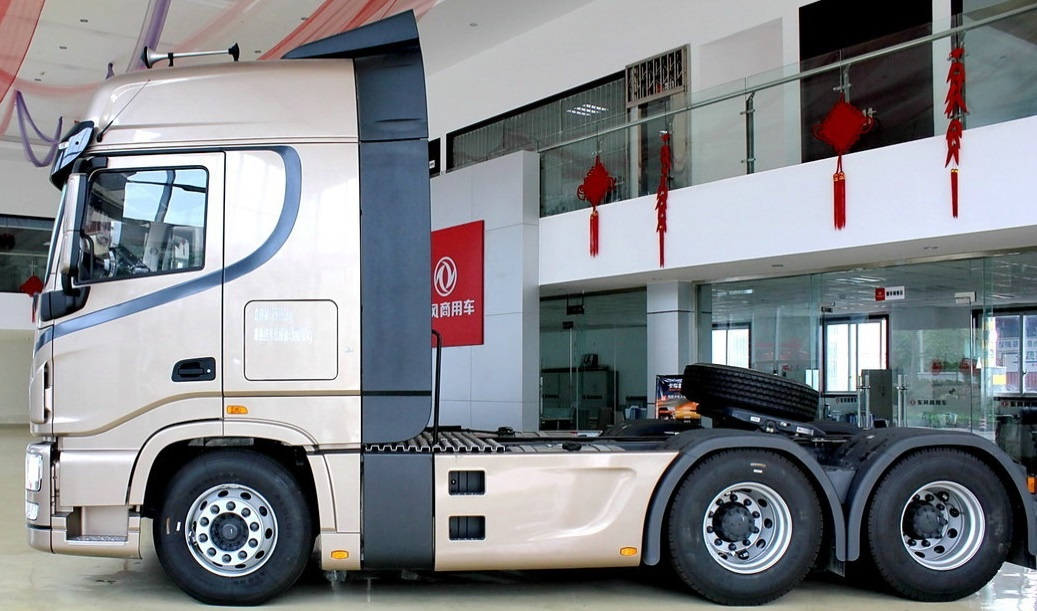heavy truck: (49, 40, 1025, 604)
